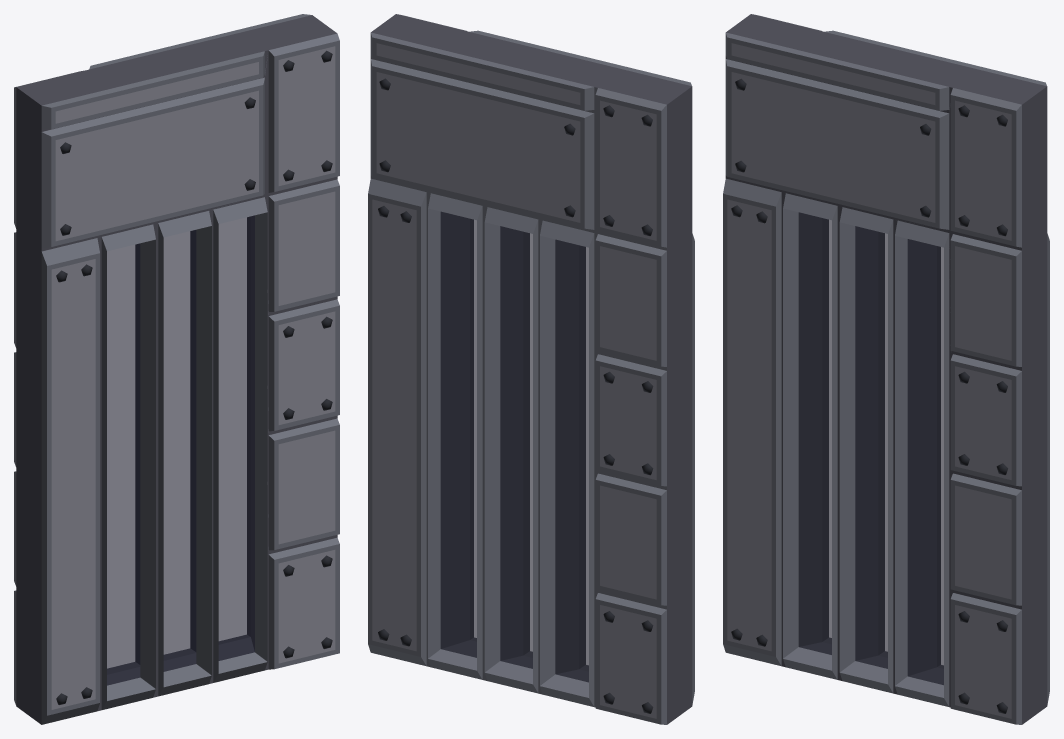
The model's file is MetalBoltsWindow.glb.
3 renders of one model, left to right at view 1: azimuth 30°, elevation 25°; view 2: azimuth 150°, elevation 25°; view 3: azimuth 330°, elevation 25°, orthographic.
Visible parts, largest first — view 1: wall_BoltPanels_window; view 2: wall_BoltPanels_window; view 3: wall_BoltPanels_window.
Part boxes in pixels (<box>): wall_BoltPanels_window: <box>14,14,339,724</box>; wall_BoltPanels_window: <box>368,14,694,724</box>; wall_BoltPanels_window: <box>723,14,1049,724</box>.
Size of what is drawn, in the model's own units: 2 by 4 by 0.4492.
Materials: 2 (2 with a texture image).
